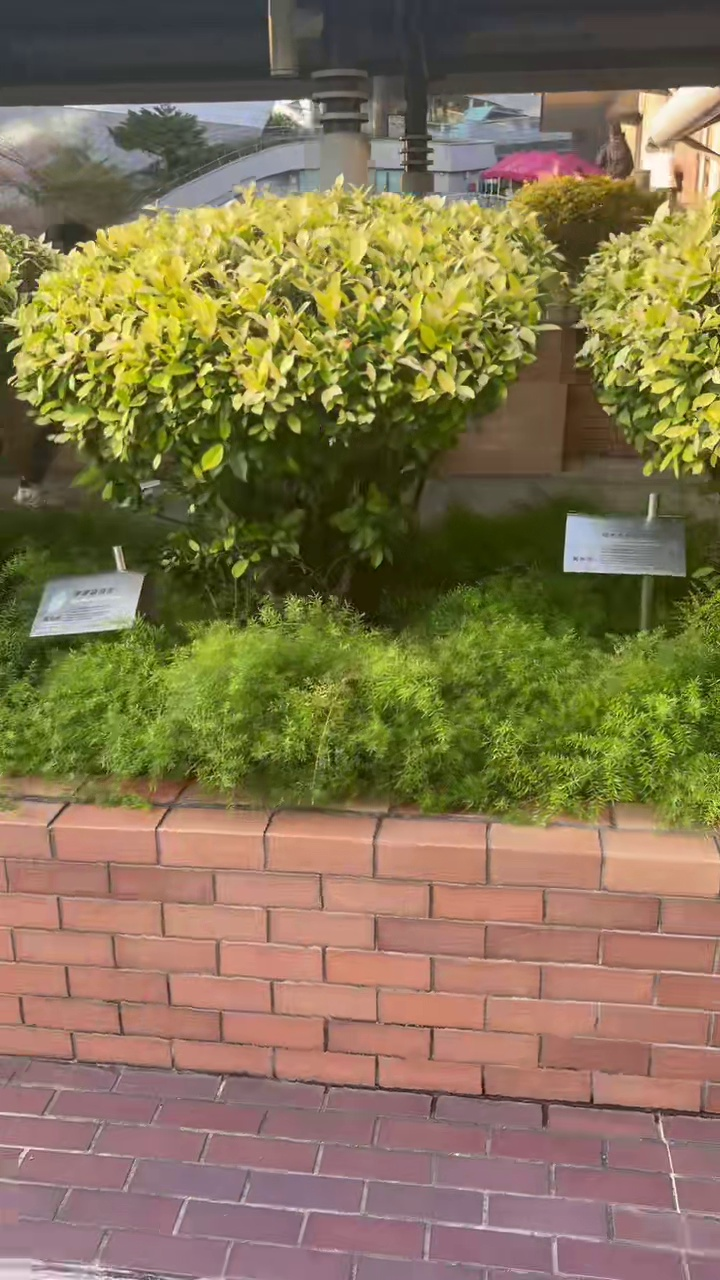Golden-leaves Fig: (15, 186, 554, 594)
